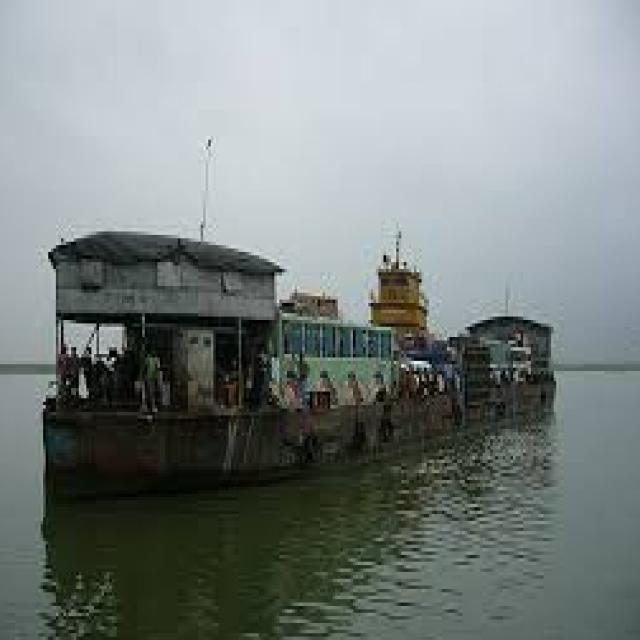cargoship: (42, 197, 586, 493)
